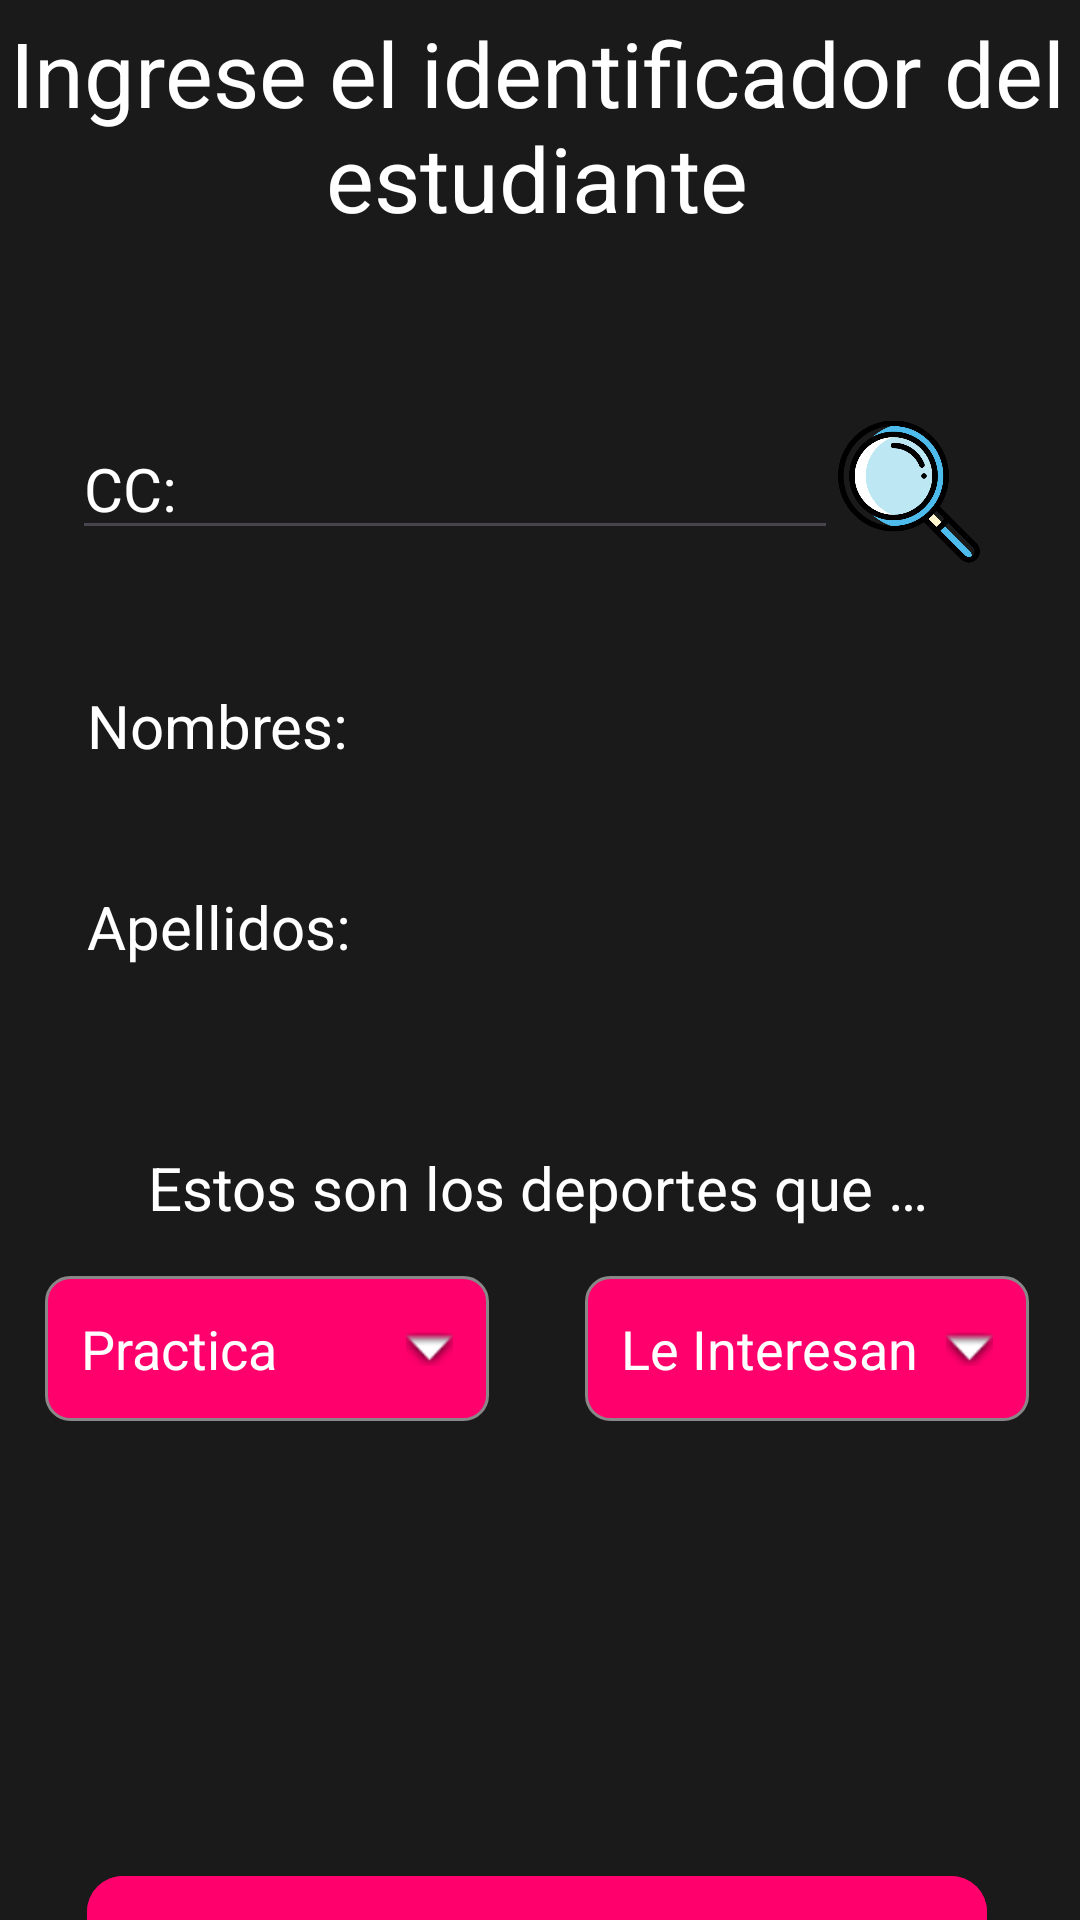

Screen size 1080*1920. Icon name, then its box in pixels as bbox=[x1, y1, x2, y2]:
lupitaicon: bbox=[838, 421, 980, 562]
